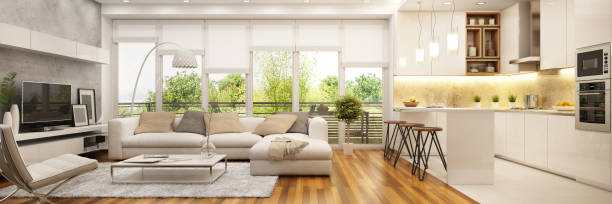TV: (19, 79, 74, 125)
TV stand: (3, 126, 107, 160)
chair: (0, 123, 99, 204)
dining table set: (384, 106, 494, 188)
floor lamp: (128, 40, 200, 114)
large plant: (334, 94, 365, 157)
small plant: (506, 92, 519, 108), (471, 94, 483, 110), (490, 93, 501, 109)
sofa: (106, 110, 333, 179)
table: (109, 150, 228, 185)
